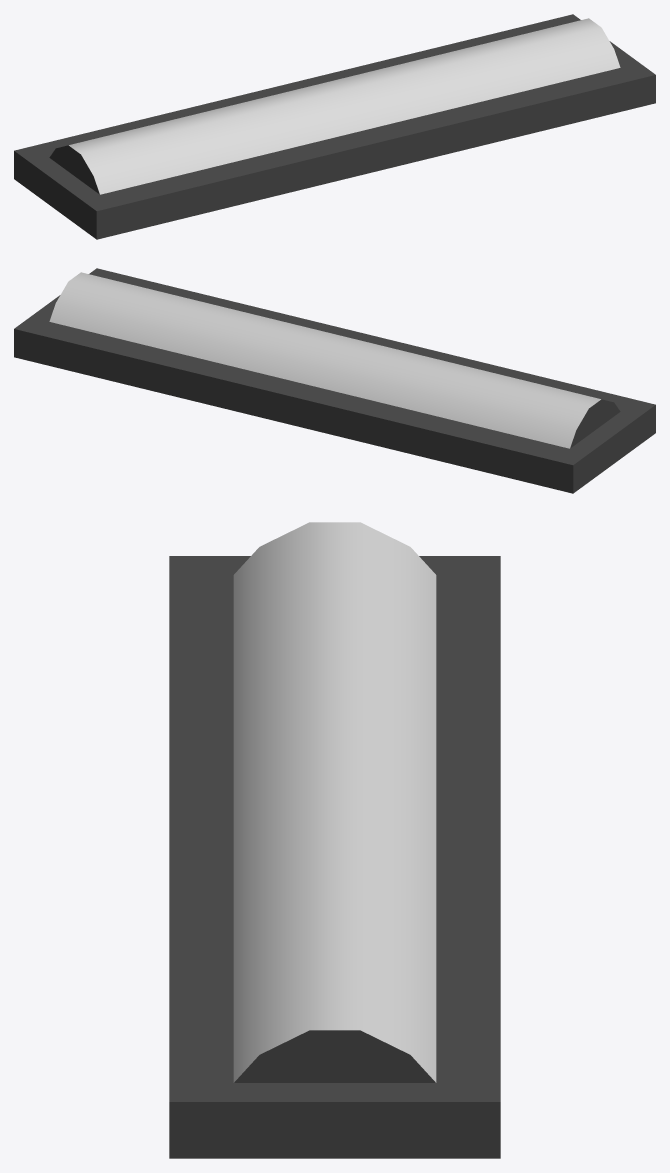
File: lampmuur.fbx
3 views of the same model, one above another, from view 1: azimuth 30°, elevation 25°; view 2: azimuth 150°, elevation 25°; view 3: azimuth 270°, elevation 25° (orthographic). The views are drawn at different scales.
Visible parts, largest first — view 1: lamp; view 2: lamp; view 3: lamp.
Part boxes in pixels (left/top/right/bottom): lamp: left=14, top=14, right=655, bottom=239; lamp: left=14, top=268, right=655, bottom=493; lamp: left=169, top=522, right=500, bottom=1158.
Bounding box in the file's own units: 3.39 × 0.3177 × 0.8705.
